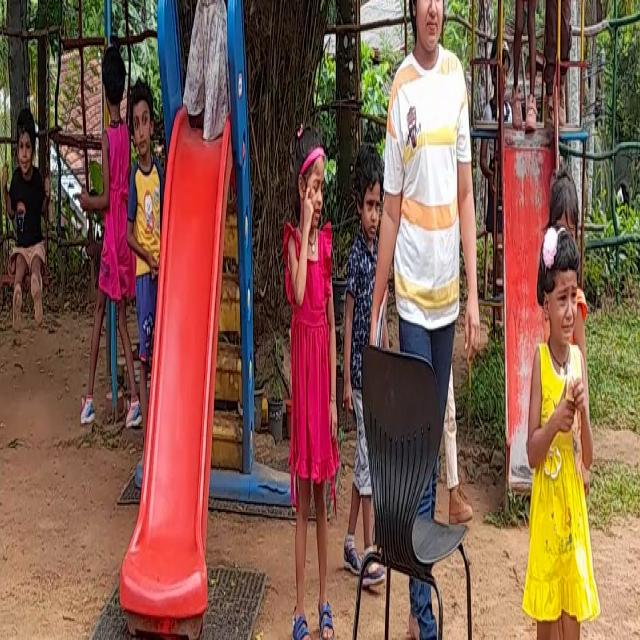adult: (389, 0, 473, 640)
child: (280, 117, 342, 640), (524, 229, 594, 640), (77, 28, 129, 462), (340, 118, 382, 542), (4, 72, 49, 351), (133, 85, 161, 458), (182, 0, 226, 142), (504, 0, 542, 125), (541, 0, 577, 131)
